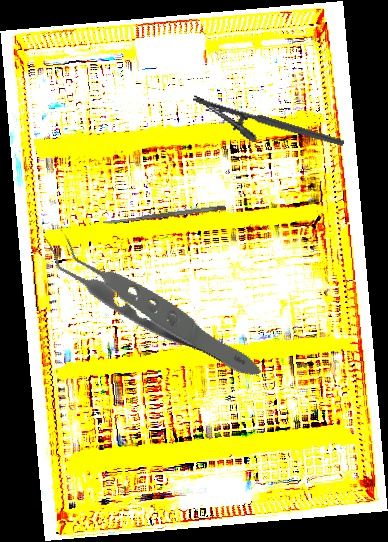Needle Holder: (186, 93, 345, 169)
Spatula Surgical: (103, 204, 226, 226)
Tissue Forceps: (38, 171, 264, 435)
